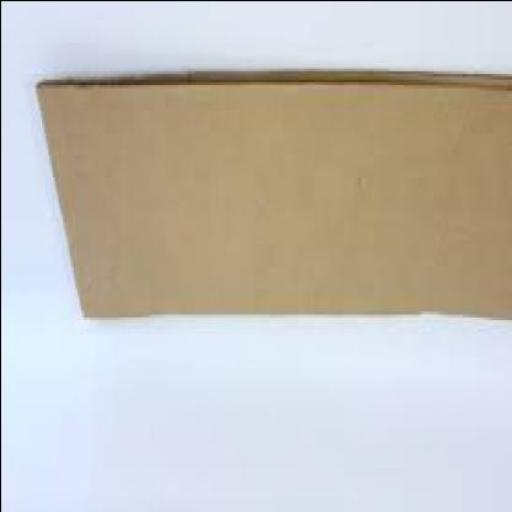cardboard: (33, 72, 511, 322)
